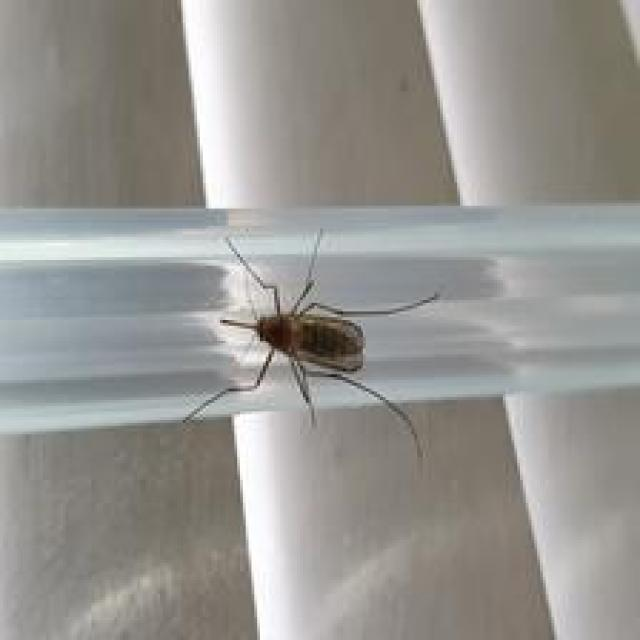Culex: (180, 227, 440, 459)
